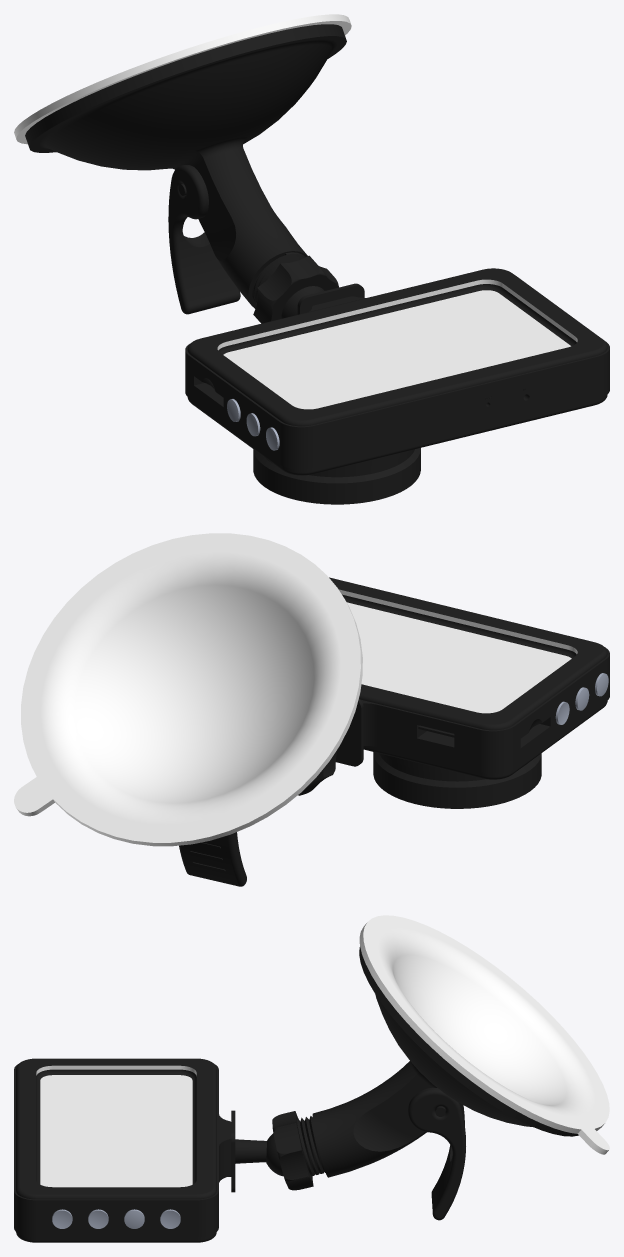
3 views of the same model, one above another, from view 1: azimuth 30°, elevation 25°; view 2: azimuth 150°, elevation 25°; view 3: azimuth 270°, elevation 25° (orthographic). The views are drawn at different scales.
Parts seen in each view (by area): view 1: Main Body, Arm of Suction Cup, Tighten Switch, Lens, Suction Cup, RevolveBallBearing, Buttons; view 2: Suction Cup, Main Body, Lens, Tighten Switch, RevolveBallBearing, Buttons; view 3: Main Body, Suction Cup, Arm of Suction Cup, Tighten Switch, RevolveBallBearing, Buttons.
Part boxes in pixels (x1=…): Main Body: x1=185, y1=268, x2=609, y2=475; Arm of Suction Cup: x1=25, y1=24, x2=346, y2=323; Tighten Switch: x1=168, y1=165, x2=240, y2=314; Lens: x1=253, y1=448, x2=420, y2=504; Suction Cup: x1=14, y1=14, x2=351, y2=144; RevolveBallBearing: x1=281, y1=283, x2=364, y2=318; Buttons: x1=227, y1=399, x2=279, y2=450; Suction Cup: x1=14, y1=533, x2=362, y2=846; Main Body: x1=329, y1=577, x2=609, y2=779; Lens: x1=373, y1=752, x2=541, y2=808; Tighten Switch: x1=179, y1=832, x2=246, y2=886; RevolveBallBearing: x1=336, y1=699, x2=363, y2=766; Buttons: x1=555, y1=673, x2=608, y2=724; Main Body: x1=14, y1=1058, x2=231, y2=1242; Suction Cup: x1=359, y1=915, x2=609, y2=1154; Arm of Suction Cup: x1=272, y1=947, x2=578, y2=1190; Tighten Switch: x1=408, y1=1087, x2=465, y2=1220; RevolveBallBearing: x1=228, y1=1110, x2=283, y2=1192; Buttons: x1=52, y1=1209, x2=180, y2=1228.
Bounding box in the file's own units: 0.0824 × 0.0766 × 0.1454.
